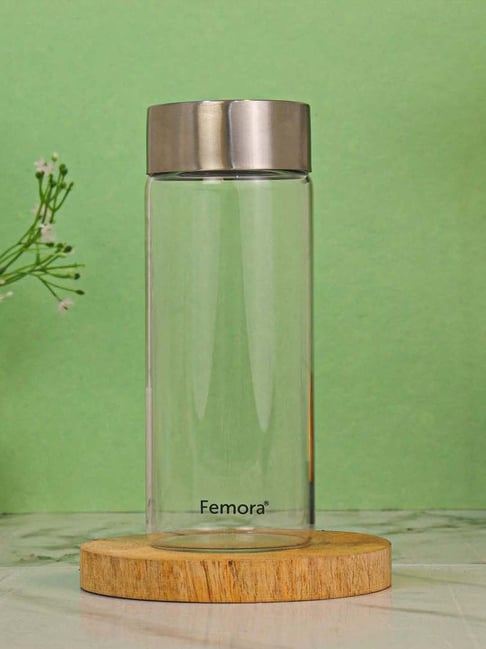glass_bottle: (120, 88, 329, 559)
